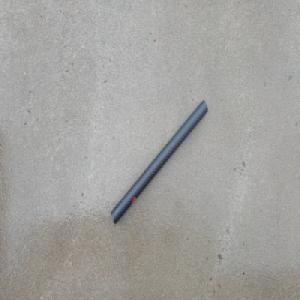LuggagePart: (110, 99, 208, 226)
